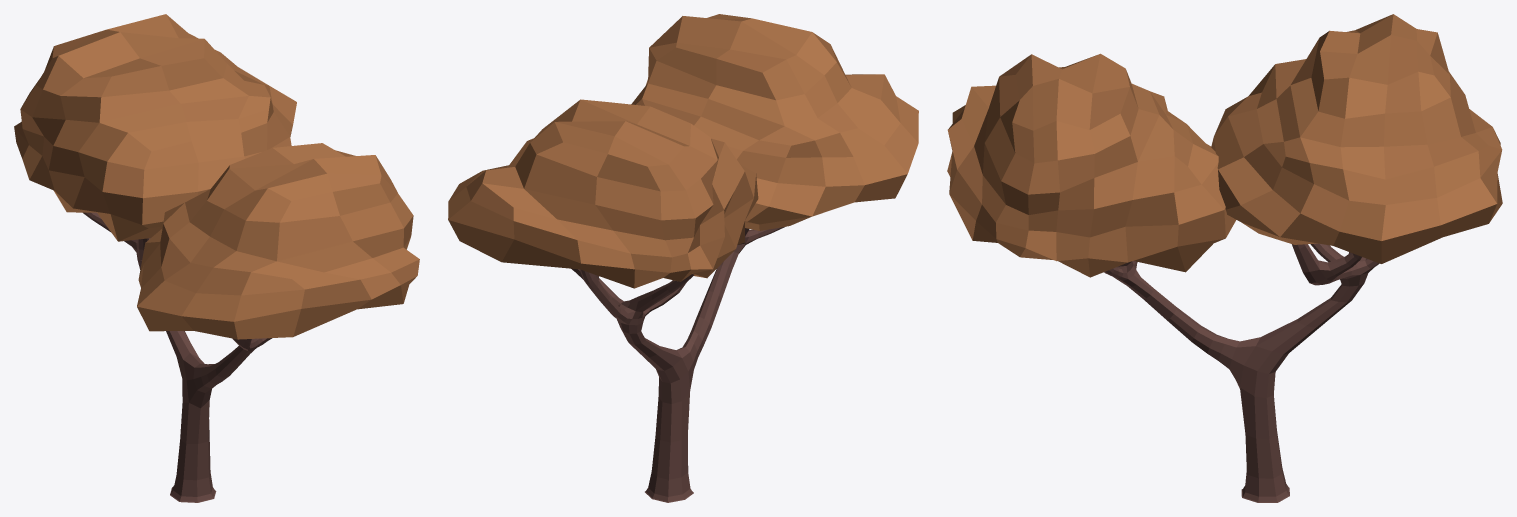
The model's file is commontree_autumn1.glb.
3 views of the same model, side by side, from view 1: azimuth 30°, elevation 25°; view 2: azimuth 150°, elevation 25°; view 3: azimuth 270°, elevation 25° (orthographic). The views are drawn at different scales.
Visible parts, largest first — view 1: CommonTree_Autumn_1; view 2: CommonTree_Autumn_1; view 3: CommonTree_Autumn_1.
Boxes of the visible parts, <box> form: CommonTree_Autumn_1: <box>14,14,419,502</box>; CommonTree_Autumn_1: <box>448,14,918,502</box>; CommonTree_Autumn_1: <box>947,14,1502,502</box>.
Size of the model in its own units: 1.89 by 2.48 by 2.77.
